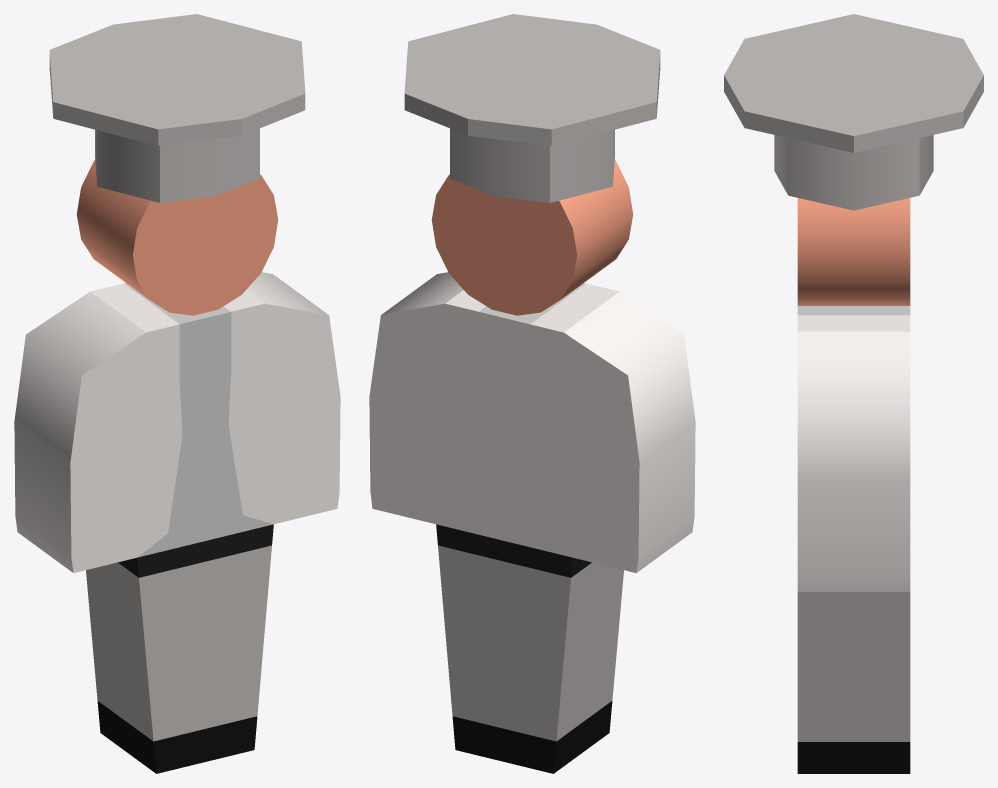
Rendered from cook.fbx.
3 views of the same model, side by side, from view 1: azimuth 30°, elevation 25°; view 2: azimuth 150°, elevation 25°; view 3: azimuth 270°, elevation 25° (orthographic).
Visible parts, largest first — view 1: Box001, Box002, Cylinder001; view 2: Box001, Box002, Cylinder001; view 3: Box001, Box002, Cylinder001.
Part boxes in pixels (bbox=[...]): Box001: bbox=[14, 272, 340, 773]; Box002: bbox=[49, 14, 305, 202]; Cylinder001: bbox=[76, 160, 278, 315]; Box001: bbox=[369, 272, 695, 773]; Box002: bbox=[404, 14, 660, 202]; Cylinder001: bbox=[431, 160, 633, 315]; Box001: bbox=[797, 306, 910, 773]; Box002: bbox=[724, 14, 983, 210]; Cylinder001: bbox=[797, 198, 910, 305].
Bounding box in the file's own units: 55.69 × 132 × 46.03.
